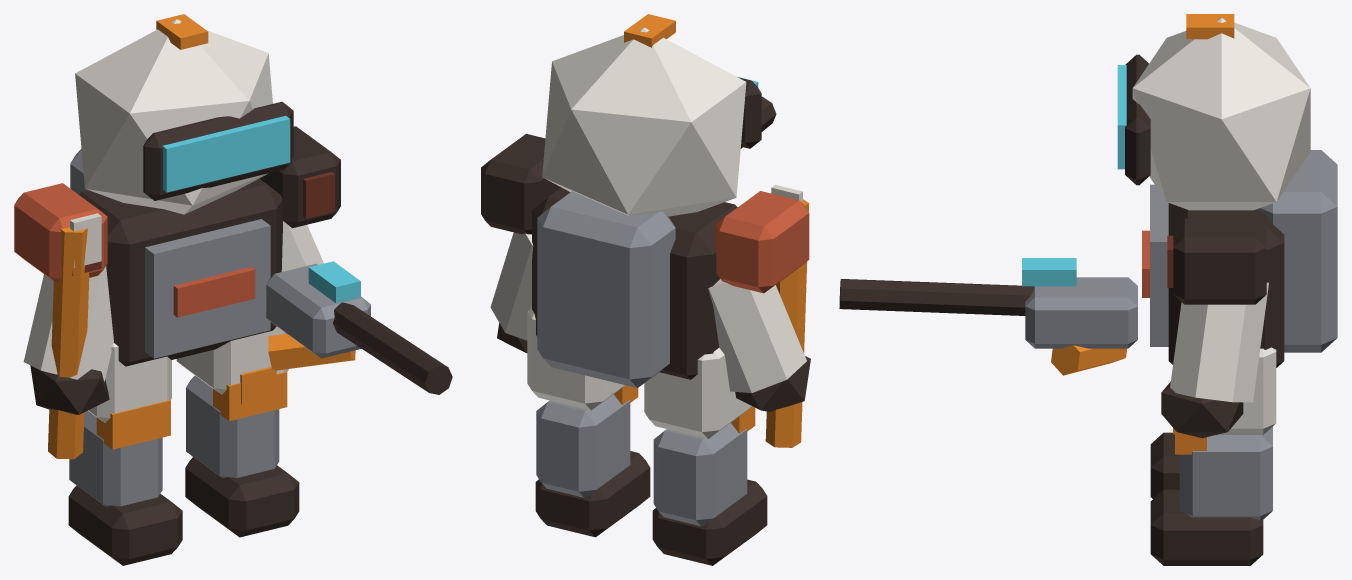
Rendered from u_warrior.glb.
3 renders of one model, left to right at view 1: azimuth 30°, elevation 25°; view 2: azimuth 150°, elevation 25°; view 3: azimuth 270°, elevation 25°, orthographic.
Visible parts, largest first — view 1: u_warrior; view 2: u_warrior; view 3: u_warrior.
Boxes of the visible parts, x1,y1,x2,y2 form: u_warrior: (14,14,452,565); u_warrior: (481,14,810,565); u_warrior: (839,14,1337,565).
Size of the model in its own units: 0.1989 by 0.32 by 0.2845.
